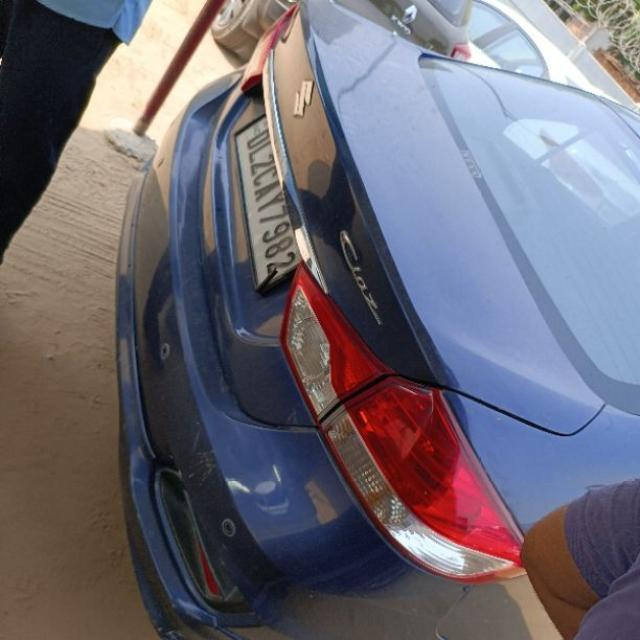license_plate: (232, 112, 302, 294)
